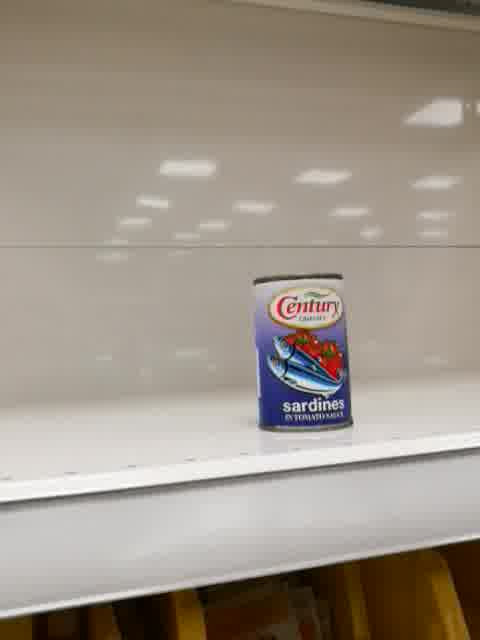sardine: (252, 271, 355, 434)
